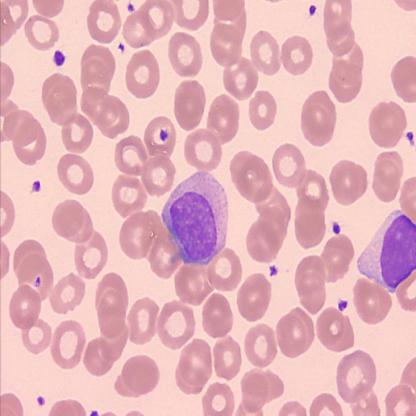Myelocyte: (162, 172, 224, 262)
